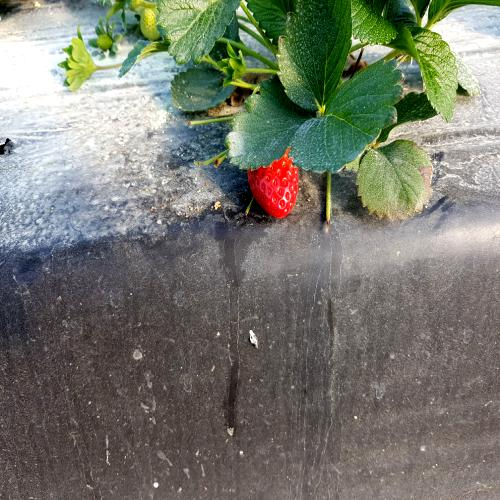ripe: (246, 135, 306, 221)
